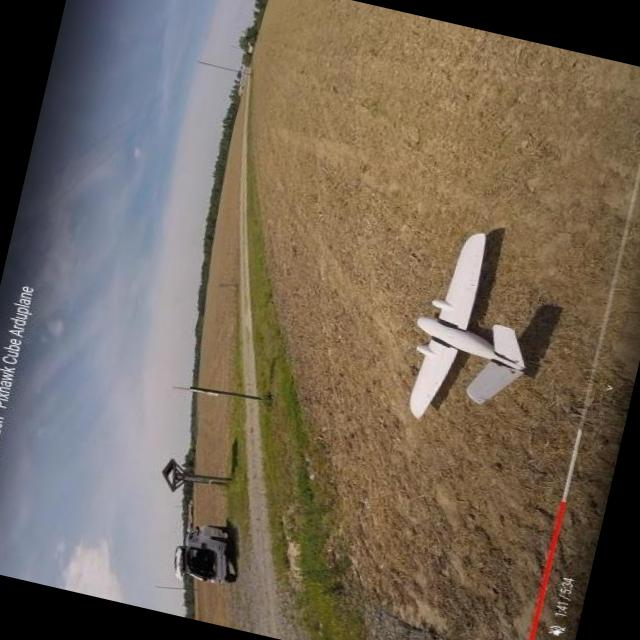UAV: (390, 241, 550, 440)
